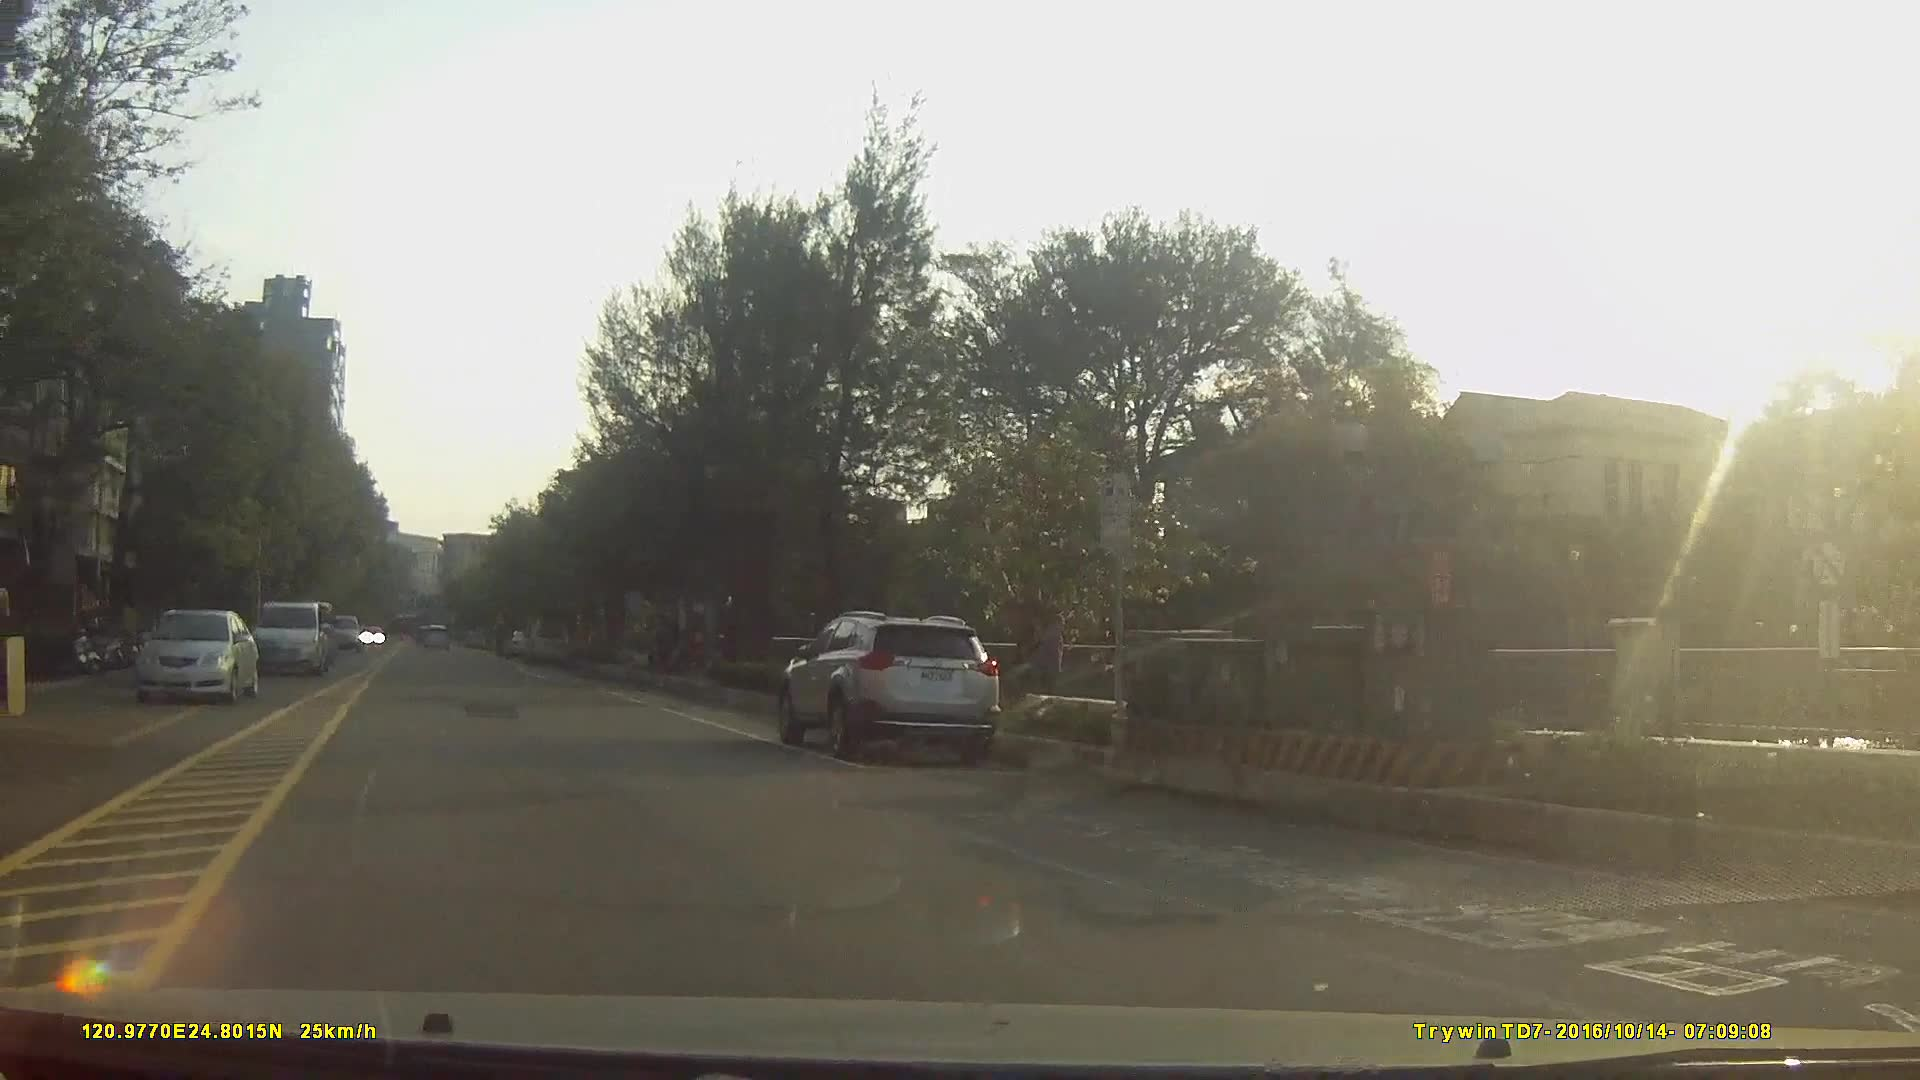vehicle: (779, 607, 998, 756), (133, 608, 258, 702), (255, 601, 330, 676), (520, 618, 571, 665), (318, 608, 360, 655)
